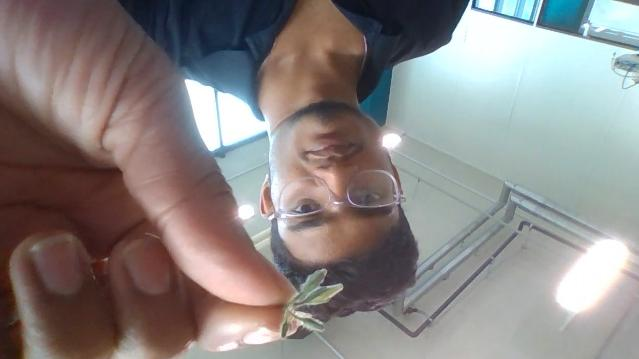Flower Bud: (294, 269, 327, 297), (300, 285, 343, 306), (293, 316, 324, 332)
